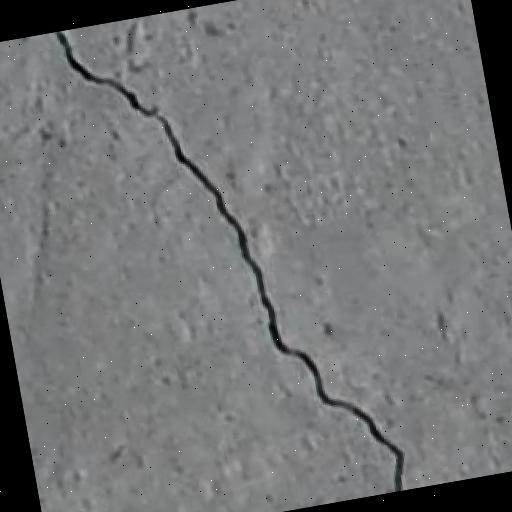spalling: (42, 27, 424, 490)
